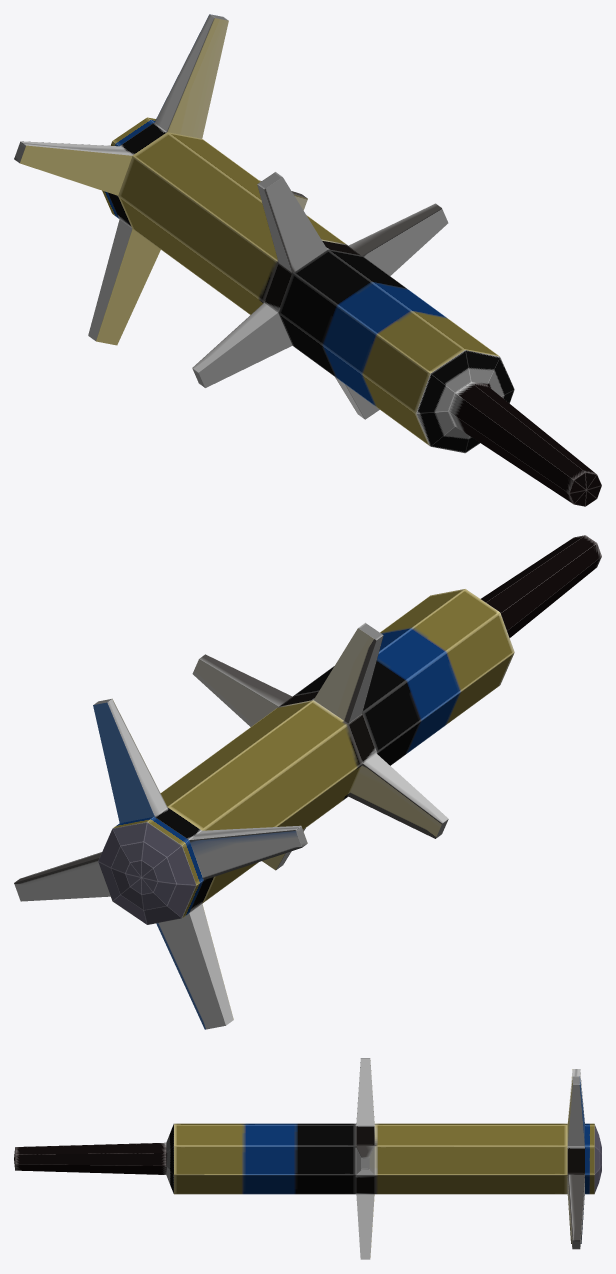
The model's file is Bomb.fbx.
3 views of the same model, one above another, from view 1: azimuth 30°, elevation 25°; view 2: azimuth 150°, elevation 25°; view 3: azimuth 270°, elevation 25° (orthographic). The views are drawn at different scales.
Parts seen in each view (by area): view 1: pCylinder1; view 2: pCylinder1; view 3: pCylinder1.
Boxes of the visible parts, x1,y1,x2,y2 form: pCylinder1: [14, 14, 601, 506]; pCylinder1: [14, 535, 601, 1029]; pCylinder1: [14, 1058, 601, 1259].
Size of the model in its own units: 7.12 by 7.14 by 19.05.
